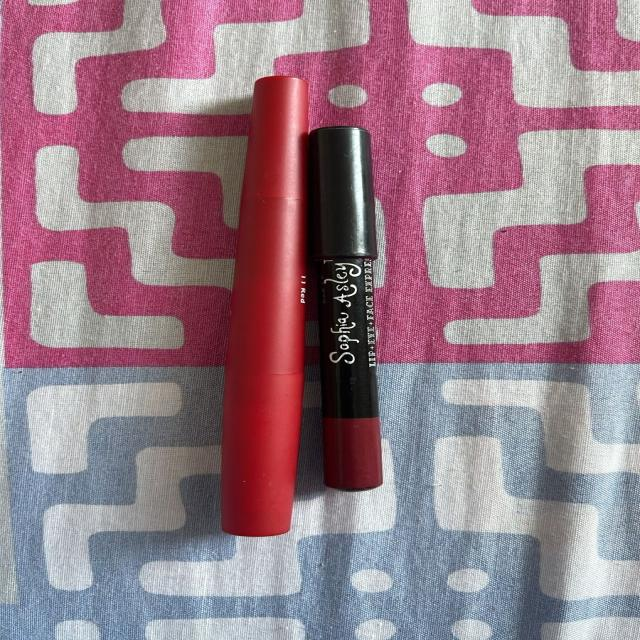lip liner: (211, 56, 311, 572), (308, 106, 414, 516)
